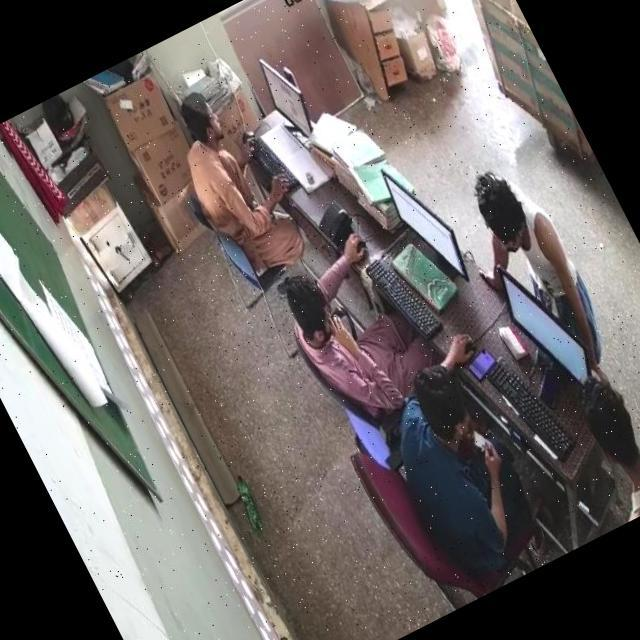person: (373, 356, 543, 564), (474, 157, 620, 378), (262, 243, 430, 419), (160, 84, 296, 274), (571, 369, 640, 518)
